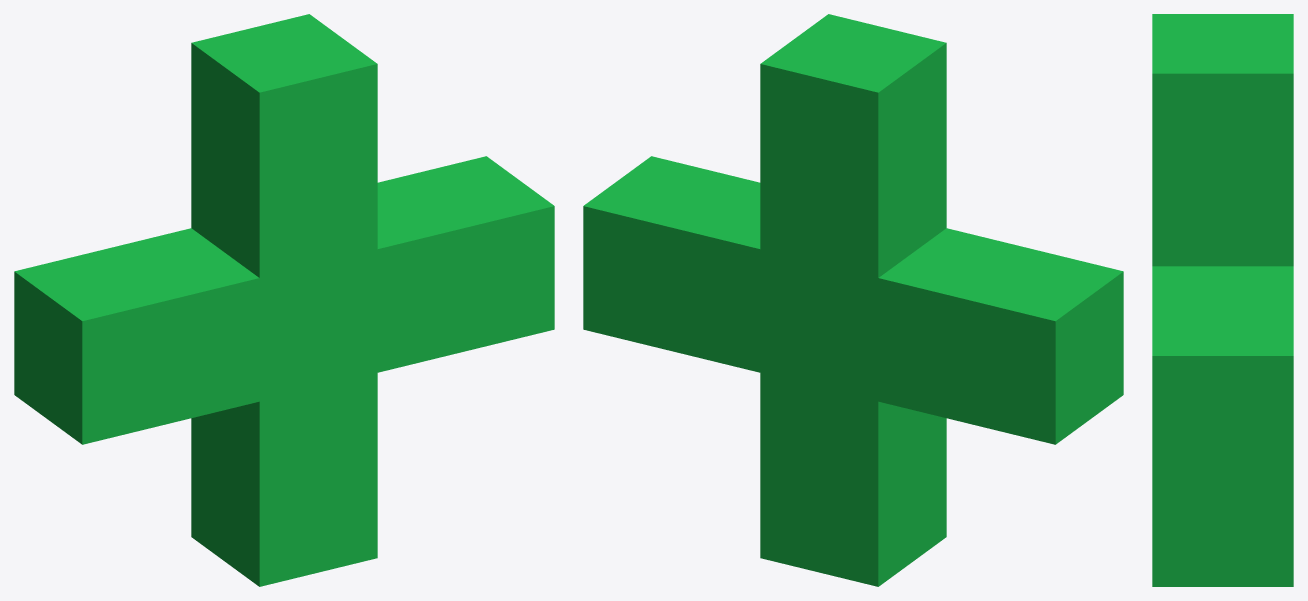
File: HealthIcon.fbx
3 renders of one model, left to right at view 1: azimuth 30°, elevation 25°; view 2: azimuth 150°, elevation 25°; view 3: azimuth 270°, elevation 25°, orthographic. The views are drawn at different scales.
Visible parts, largest first — view 1: pasted__pCube1, pCube1; view 2: pasted__pCube1, pCube1; view 3: pCube1, pasted__pCube1.
Boxes of the visible parts, x1=… form: pasted__pCube1: x1=14, y1=156, x2=554, y2=444; pCube1: x1=191, y1=14, x2=377, y2=586; pasted__pCube1: x1=583, y1=156, x2=1123, y2=444; pCube1: x1=760, y1=14, x2=946, y2=586; pCube1: x1=1152, y1=14, x2=1293, y2=586; pasted__pCube1: x1=1152, y1=266, x2=1293, y2=484.
Bounding box in the file's own units: 100 × 100 × 25.
